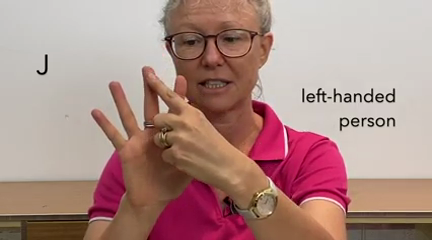J: (77, 55, 243, 223)
